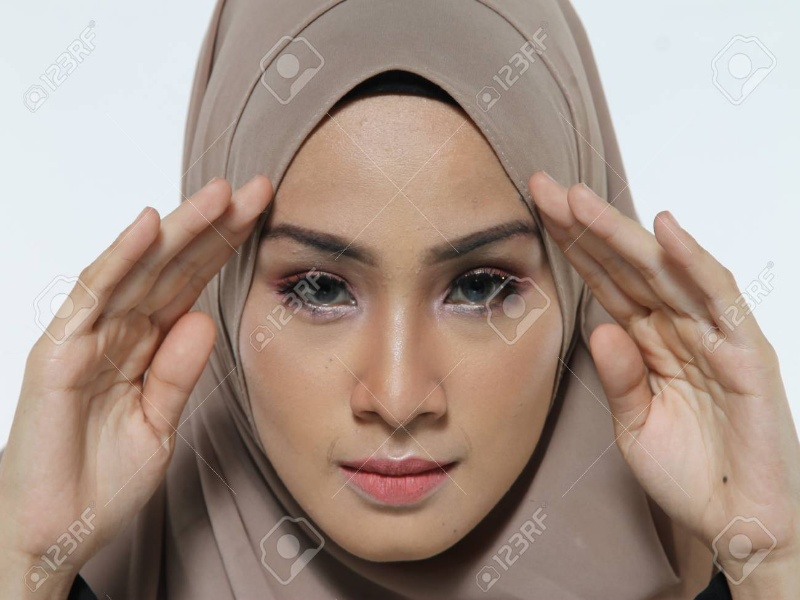face: (265, 134, 548, 528)
